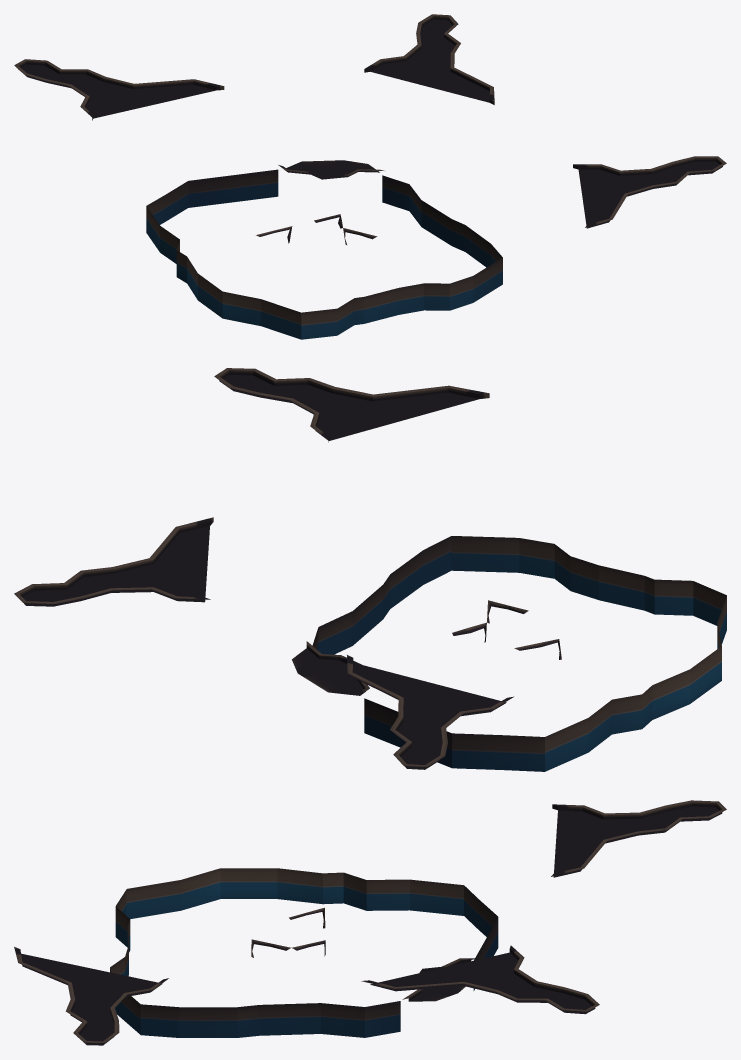
File: Ground_02.FBX
The picture shows the model from 3 angles, top to bottom: view 1: azimuth 30°, elevation 25°; view 2: azimuth 150°, elevation 25°; view 3: azimuth 270°, elevation 25°; orthographic projection. The views are drawn at different scales.
Parts seen in each view (by area): view 1: Ground_02; view 2: Ground_02; view 3: Ground_02.
Boxes of the visible parts, x1,y1,x2,y2 form: Ground_02: [14, 14, 726, 339]; Ground_02: [14, 368, 726, 771]; Ground_02: [14, 800, 726, 1045].
Bounding box in the file's own units: 32.77 × 6.38 × 39.93.
